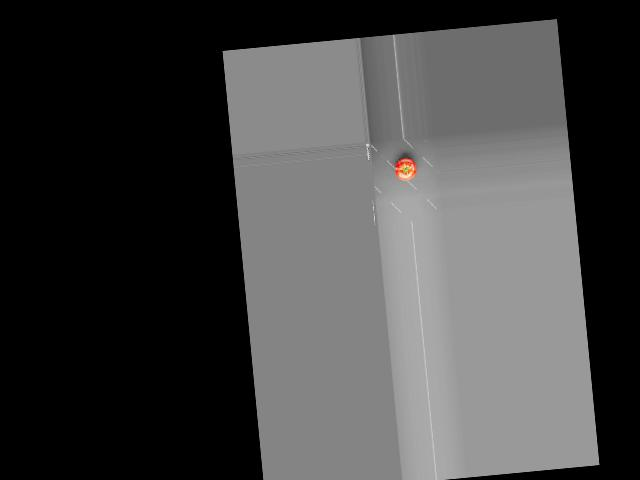tomato: (393, 157, 417, 182)
